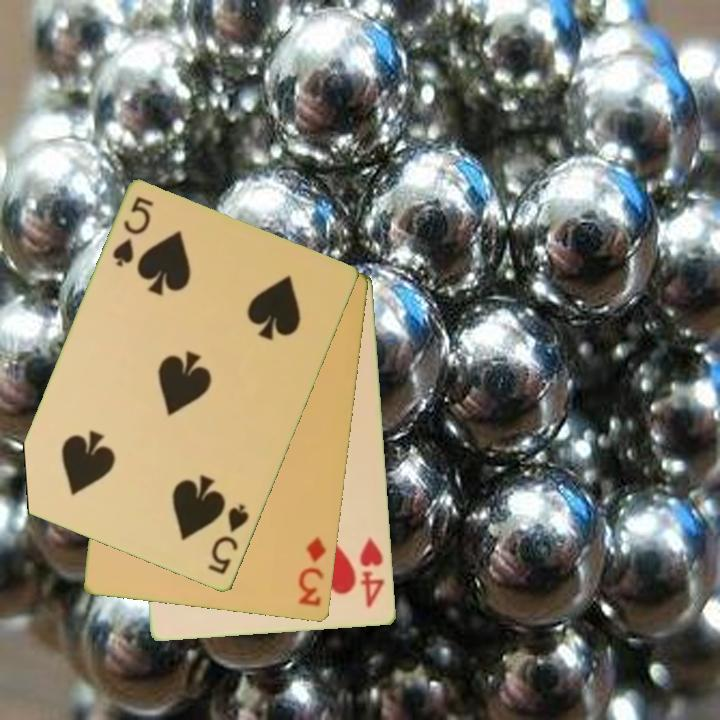3d: (295, 533, 329, 610)
4h: (356, 534, 387, 611)
5s: (109, 193, 157, 271), (205, 501, 252, 578)
